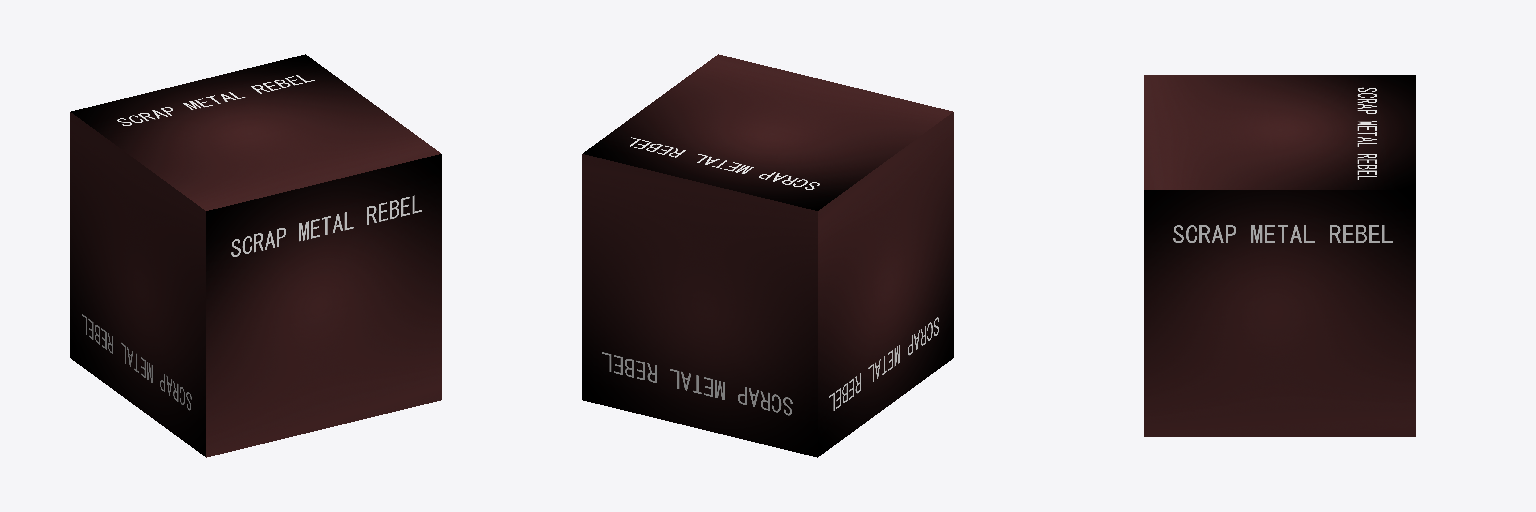
3 renders of one model, left to right at view 1: azimuth 30°, elevation 25°; view 2: azimuth 150°, elevation 25°; view 3: azimuth 270°, elevation 25°, orthographic.
Visible parts, largest first — view 1: Cube; view 2: Cube; view 3: Cube.
Boxes of the visible parts, <box> form: Cube: <box>70,54,441,457</box>; Cube: <box>582,54,953,457</box>; Cube: <box>1144,75,1415,436</box>.
Size of the model in its own units: 2 by 2 by 2.
Materials: 1 (1 with a texture image).